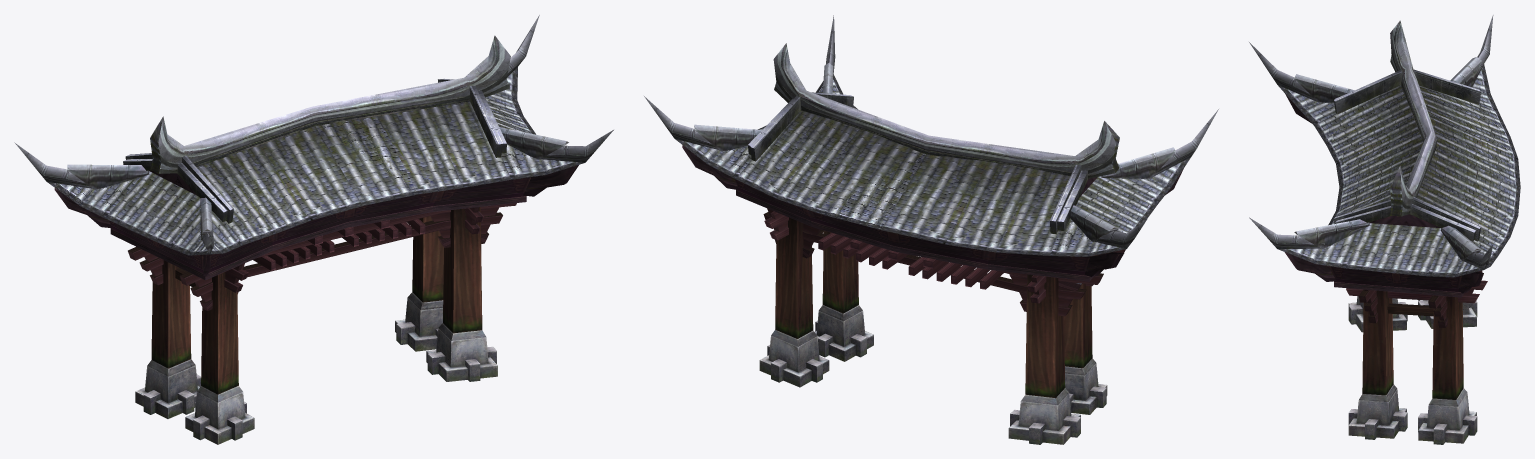
File: XCZ_jz_10_LOD1.FBX
3 renders of one model, left to right at view 1: azimuth 30°, elevation 25°; view 2: azimuth 150°, elevation 25°; view 3: azimuth 270°, elevation 25°, orthographic. The views are drawn at different scales.
Visible parts, largest first — view 1: XCZ_jz_10_LOD1; view 2: XCZ_jz_10_LOD1; view 3: XCZ_jz_10_LOD1.
Boxes of the visible parts, x1,y1,x2,y2 form: XCZ_jz_10_LOD1: (14,15,613,444); XCZ_jz_10_LOD1: (644,15,1218,444); XCZ_jz_10_LOD1: (1249,15,1520,444).
Bounding box in the file's own units: 2620 × 1496 × 1311.
